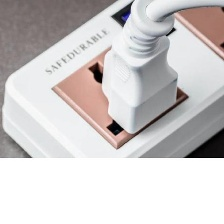three_eye_plug: (0, 0, 224, 204)
